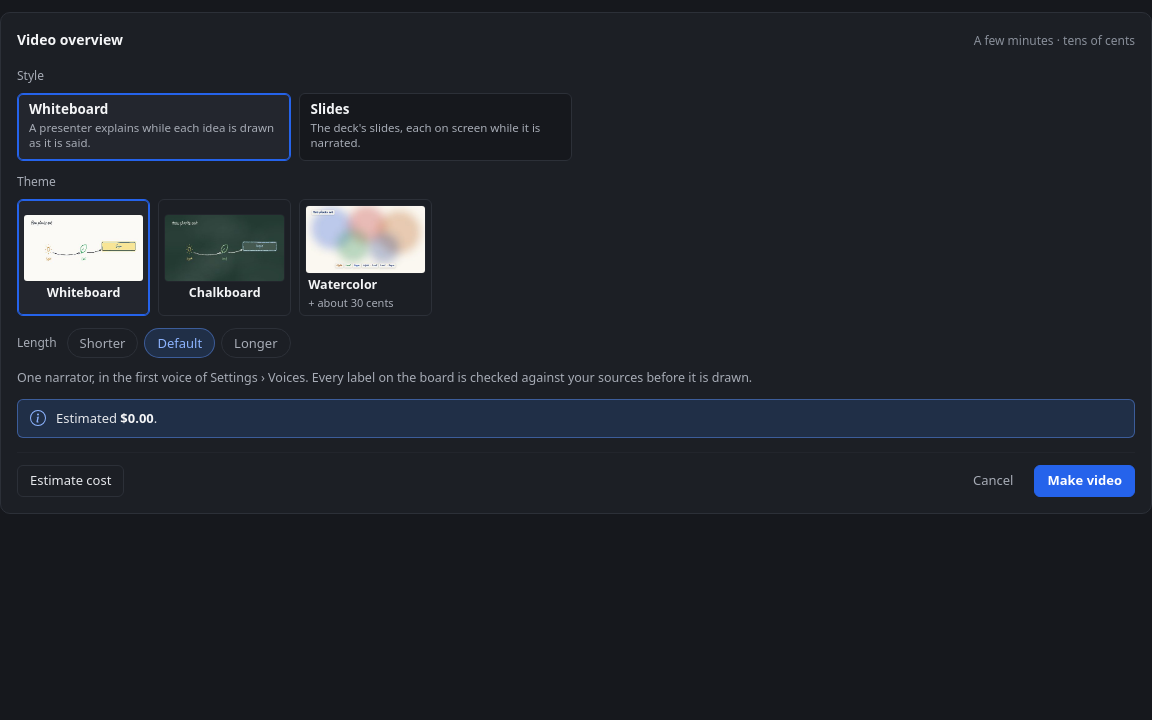
Test: the Video overview tool › offers the whiteboard's themes, sends the one chosen, and remembers it
Expected: the text "+ about 30 cents" is shown, [308,297,394,308]
Click the radio button labelled "Chalkboard".
click(225, 258)  # box [158,199,291,316]
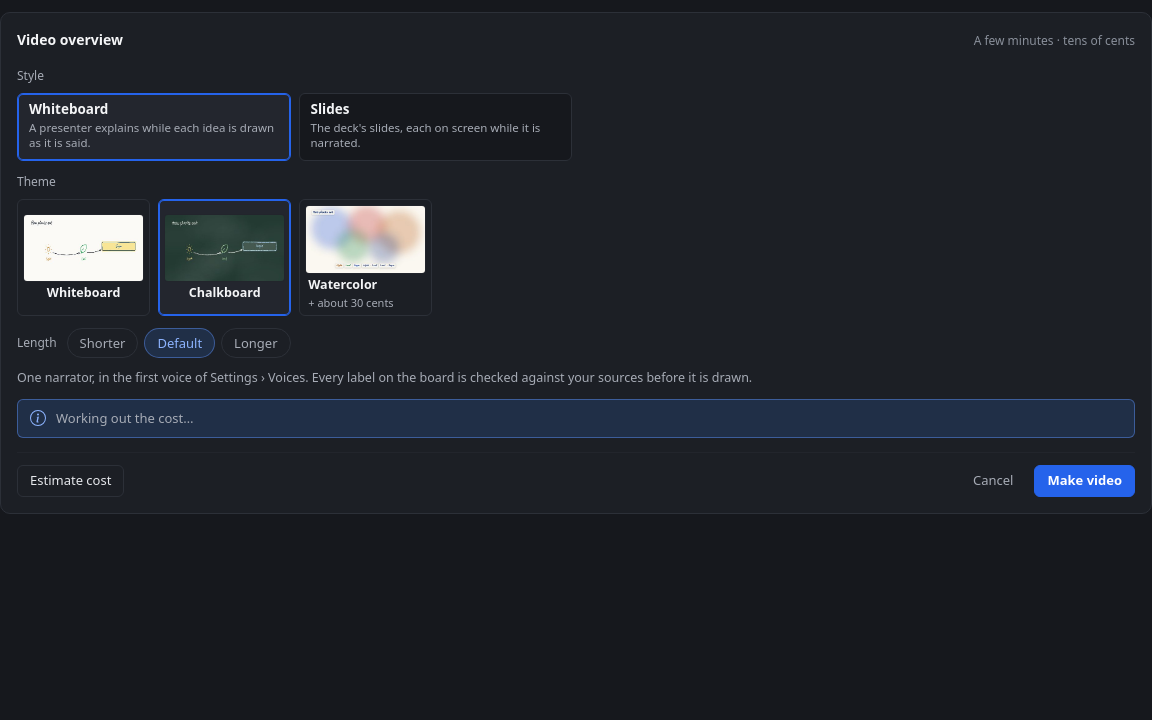
Click the button "Make video".
click(1085, 481)  # box [1034,465,1135,497]
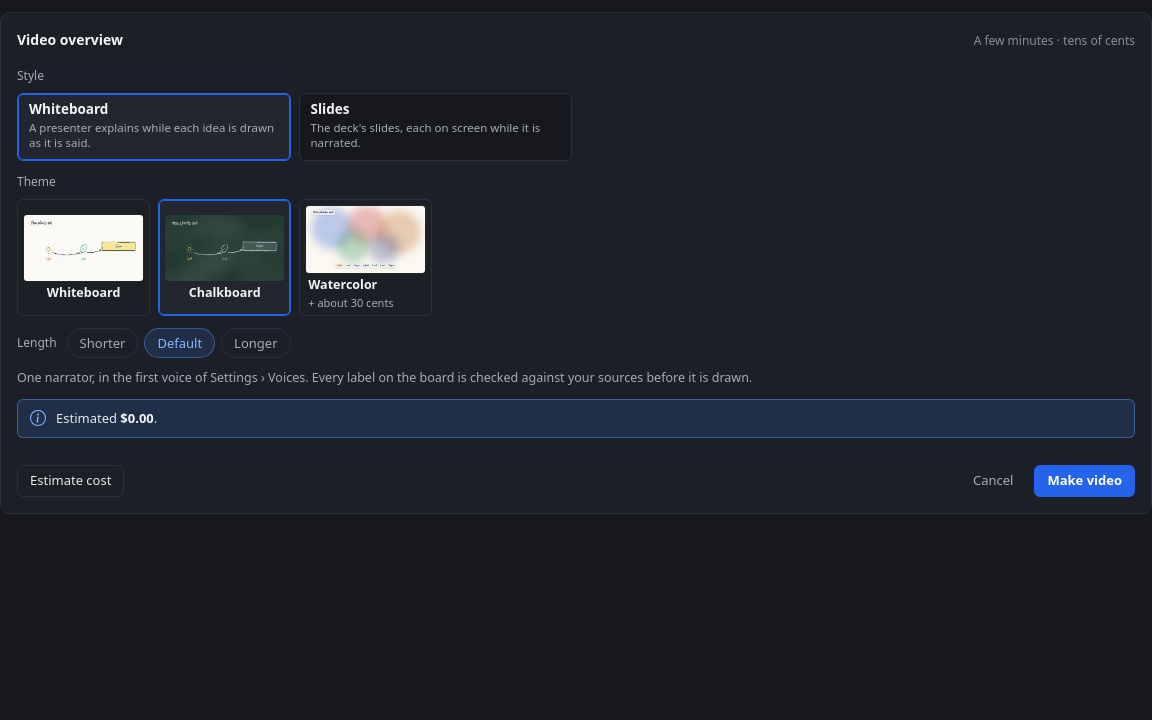
# Slides have no theme to choose.
Click the text "Slides".
click(330, 110)  # box [310,103,349,117]
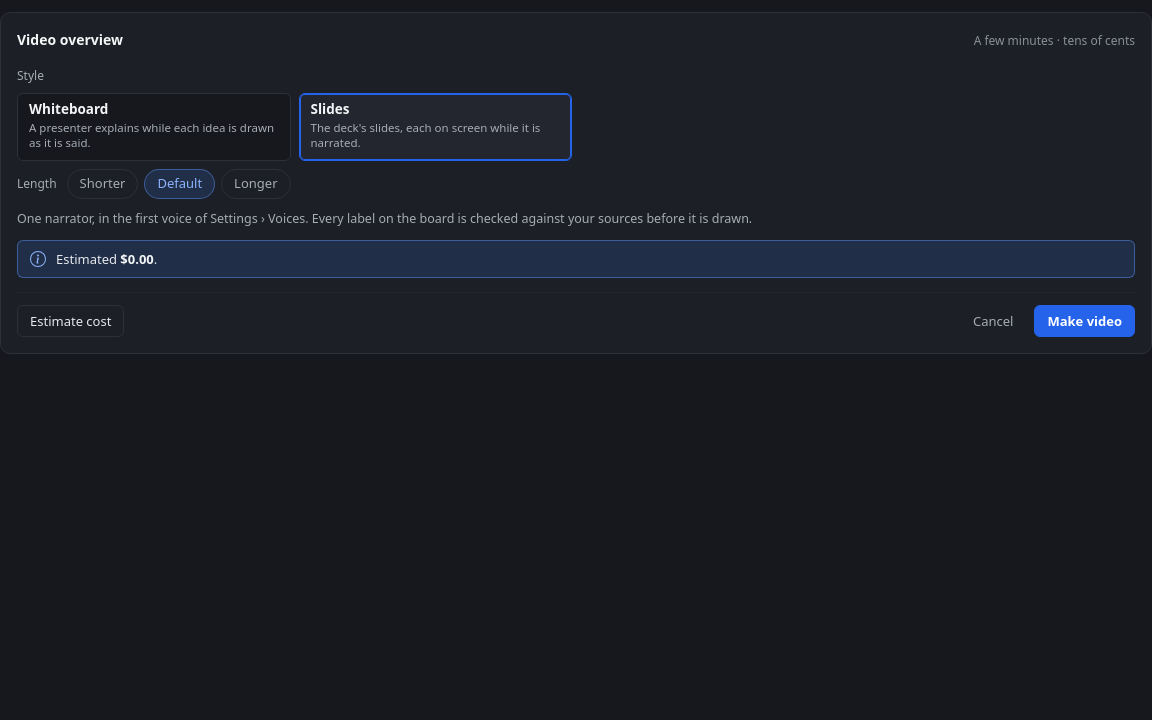
Now the text "Theme" is gone
